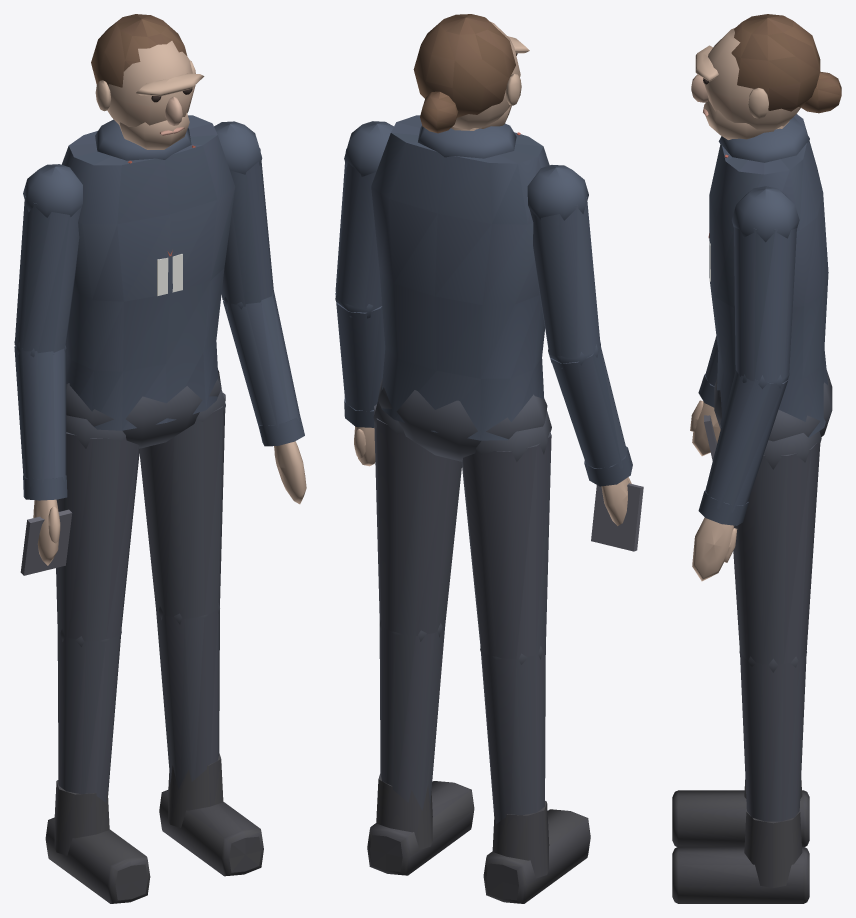
The model's file is rennick_standing_a.glb.
The picture shows the model from 3 angles, left to right: view 1: azimuth 30°, elevation 25°; view 2: azimuth 150°, elevation 25°; view 3: azimuth 270°, elevation 25°; orthographic projection. The views are drawn at different scales.
Parts seen in each view (by area): view 1: body; view 2: body; view 3: body.
Boxes of the visible parts, x1=… form: body: x1=14, y1=14, x2=306, y2=903; body: x1=335, y1=14, x2=643, y2=903; body: x1=672, y1=14, x2=841, y2=903.
Size of the model in its own units: 0.6034 by 1.72 by 0.309.
